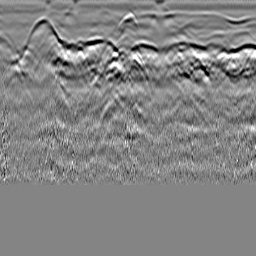cavity: (117, 7, 138, 31)
